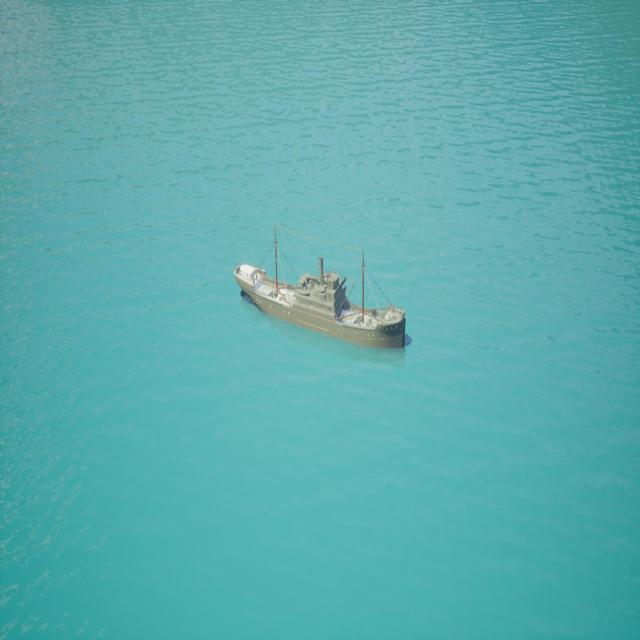fishing ship: (234, 240, 408, 356)
